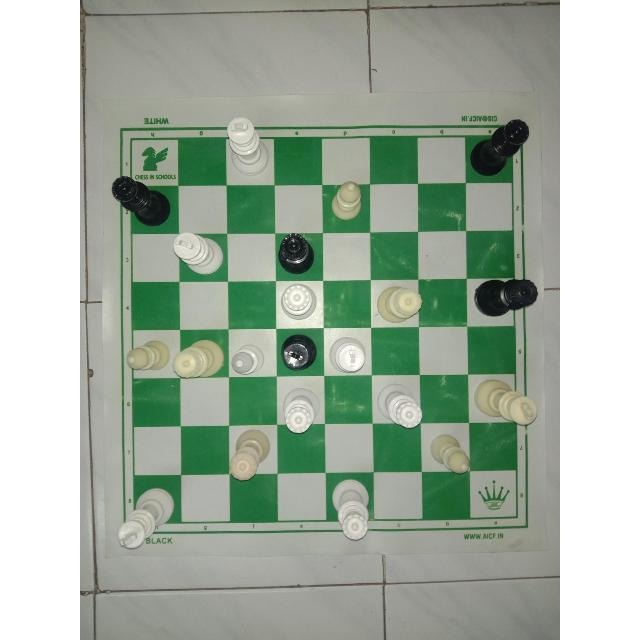black-king: (275, 332, 323, 376)
black-queen: (470, 115, 537, 185), (107, 171, 176, 226), (272, 236, 322, 280)
white-bishop: (121, 334, 177, 379), (429, 434, 475, 476), (330, 177, 366, 229), (226, 342, 270, 384)
white-king: (117, 486, 177, 557), (475, 383, 541, 431), (170, 230, 225, 280), (222, 114, 263, 178), (328, 337, 369, 379)
white-queen: (171, 335, 230, 383), (333, 478, 371, 548), (226, 430, 274, 482), (275, 387, 319, 443), (378, 385, 428, 433), (279, 282, 329, 328), (377, 283, 427, 323)
